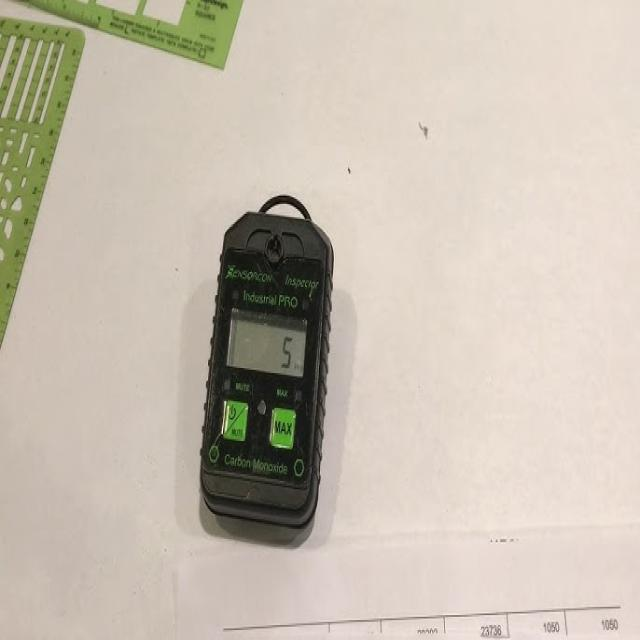display: (226, 306, 308, 378)
frame: (280, 333, 293, 372)
gauge: (200, 194, 334, 539)
